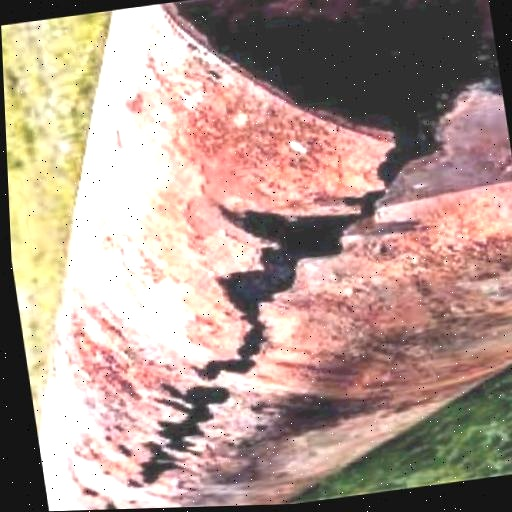corrosion: (278, 179, 512, 383), (144, 81, 319, 190), (50, 295, 138, 407)
crack: (0, 430, 388, 512)
